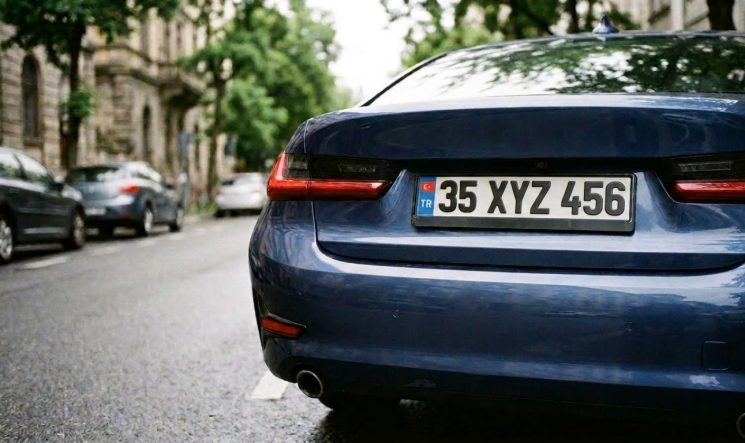plate: (410, 174, 634, 226)
